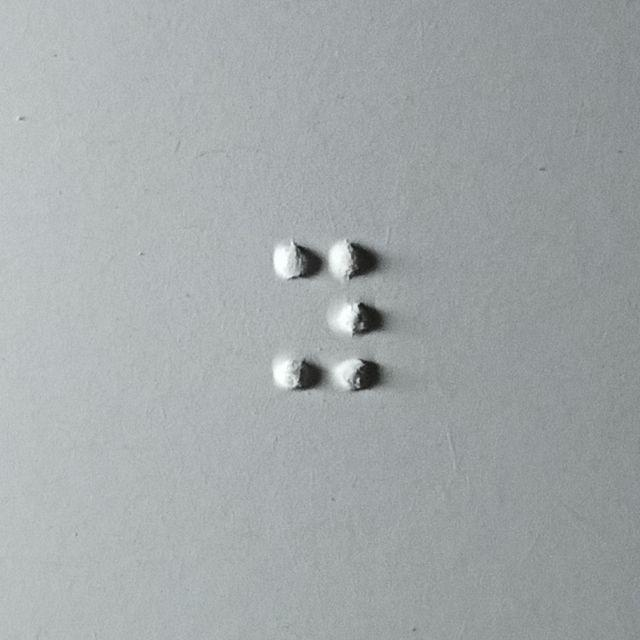yaman: (272, 239, 384, 397)
